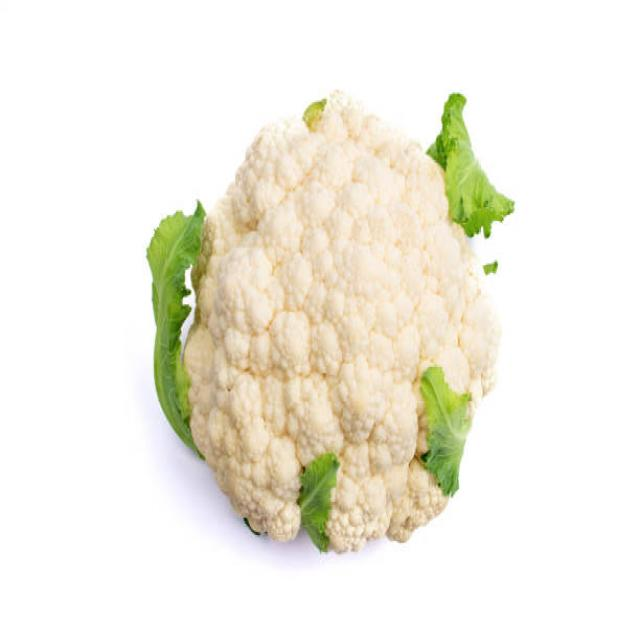Cauliflower head: (145, 67, 551, 592)
